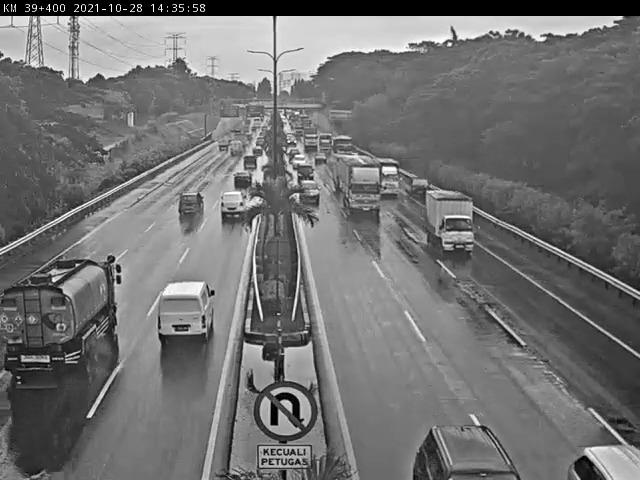big truck: (0, 249, 129, 386), (342, 161, 384, 221)
car: (413, 421, 514, 473), (151, 278, 217, 347), (565, 438, 639, 477), (218, 187, 248, 223), (406, 173, 430, 198), (176, 192, 202, 213), (302, 182, 320, 204), (298, 162, 313, 181), (290, 155, 305, 172), (234, 174, 251, 188), (239, 154, 257, 167), (315, 150, 329, 166)
small truck: (422, 195, 488, 257), (376, 157, 402, 204)
